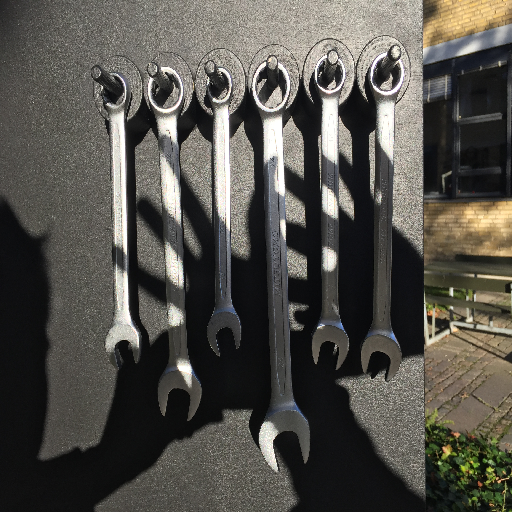bottom: (257, 400, 312, 472), (154, 364, 204, 423), (359, 324, 403, 382), (309, 318, 351, 372), (204, 305, 244, 359), (104, 320, 143, 371)
top: (249, 60, 292, 115), (366, 50, 406, 102), (146, 66, 185, 117), (98, 71, 135, 115), (313, 53, 346, 100), (204, 66, 235, 106)
